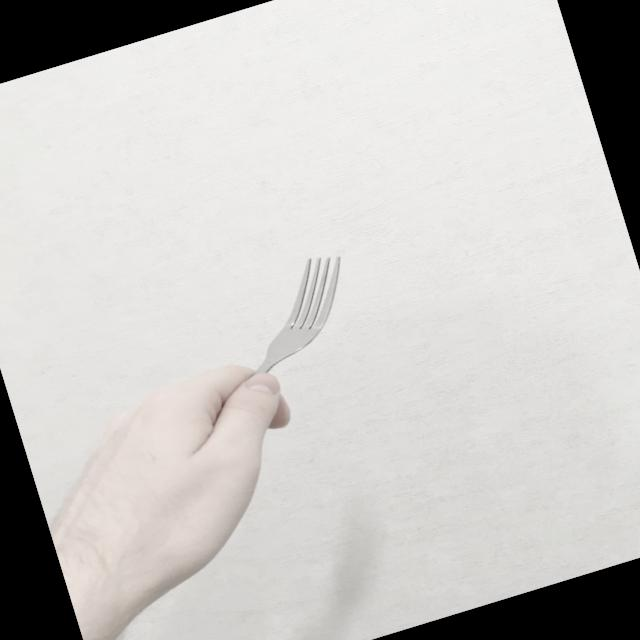fork: (154, 246, 386, 464)
